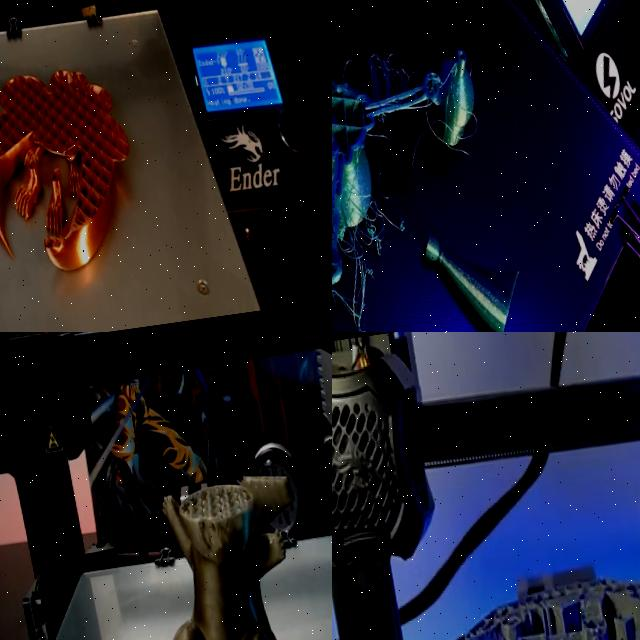spaghetti: (332, 181, 425, 280), (332, 280, 401, 332)
